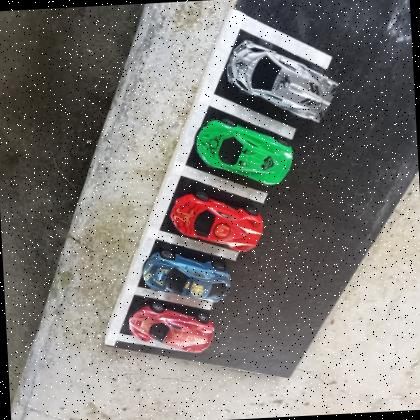Car: (225, 35, 342, 128), (192, 112, 296, 188), (168, 188, 264, 256), (141, 246, 232, 306), (126, 300, 215, 356)
